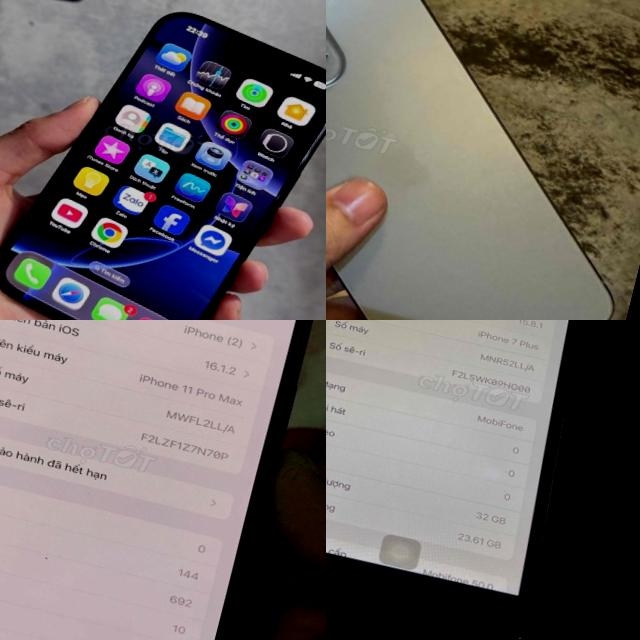scratch: (424, 269, 612, 320)
